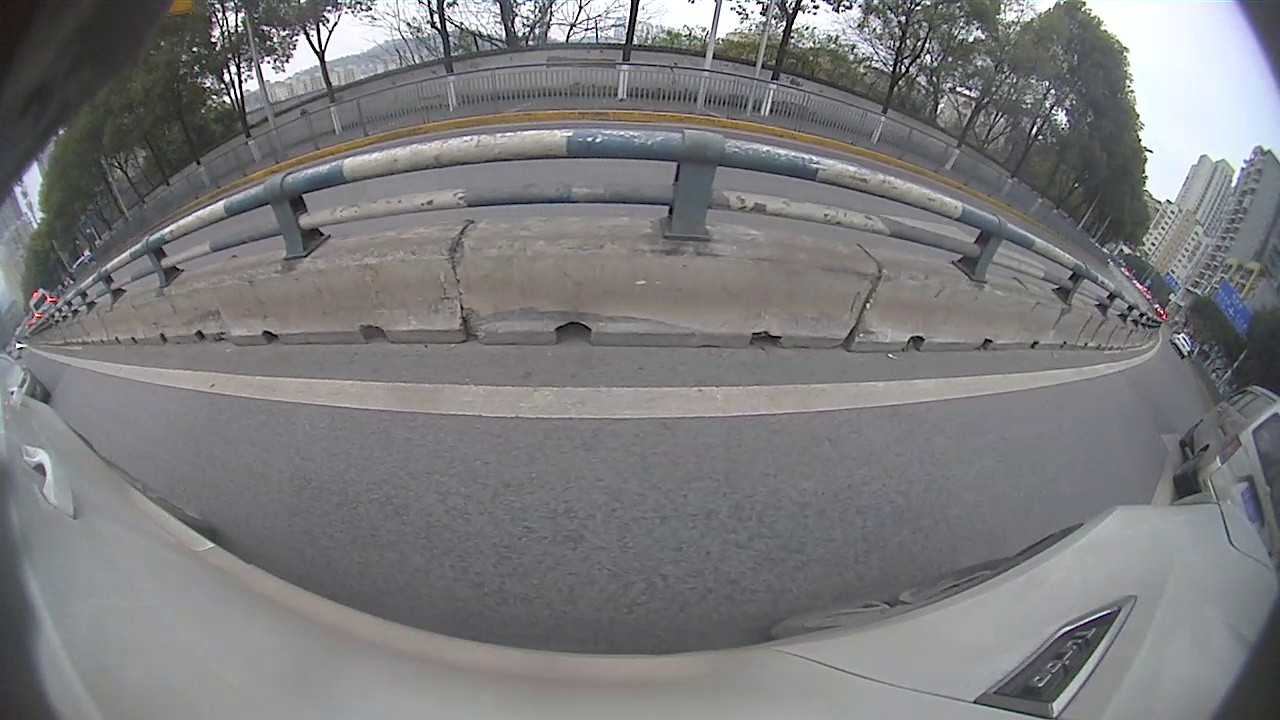car: (1173, 383, 1279, 569)
rear: (1168, 446, 1208, 482)
